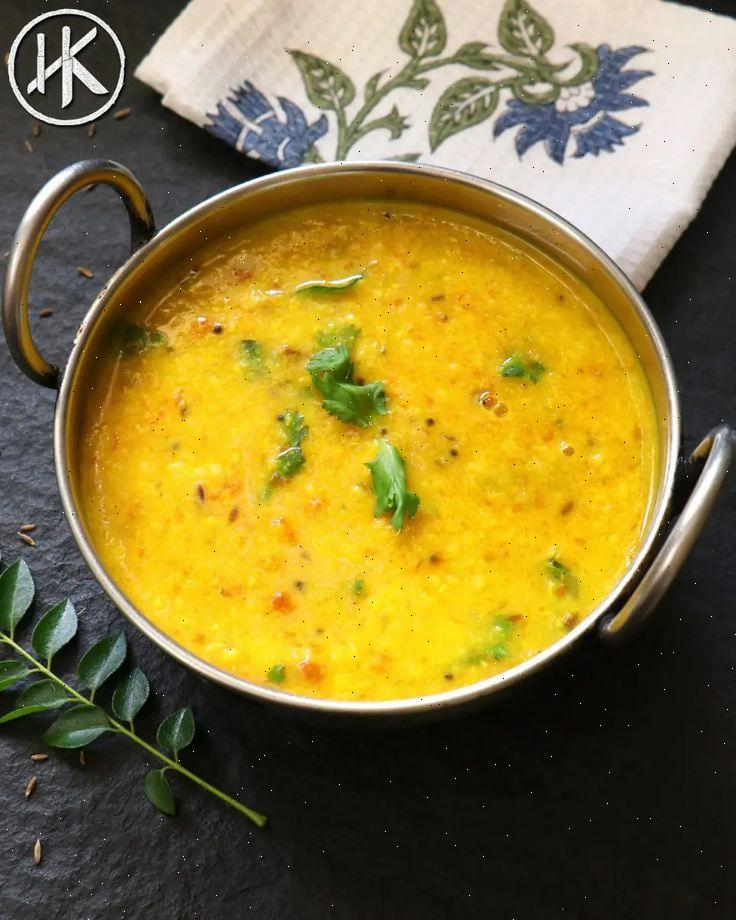daal: (56, 202, 708, 694)
